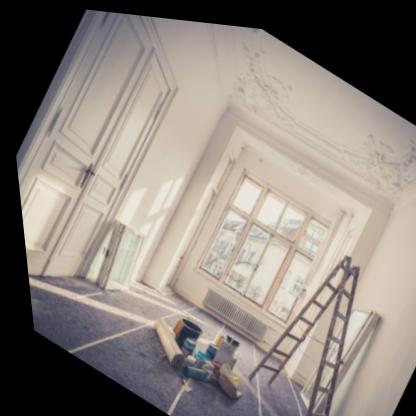Door: (14, 8, 178, 277)
Window: (181, 158, 338, 325)
